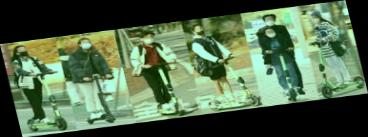helmet: (299, 6, 368, 98)
multiple: (251, 11, 312, 104)
nonhelmet: (184, 18, 263, 113), (3, 41, 73, 135), (123, 27, 192, 119), (65, 34, 126, 125)
